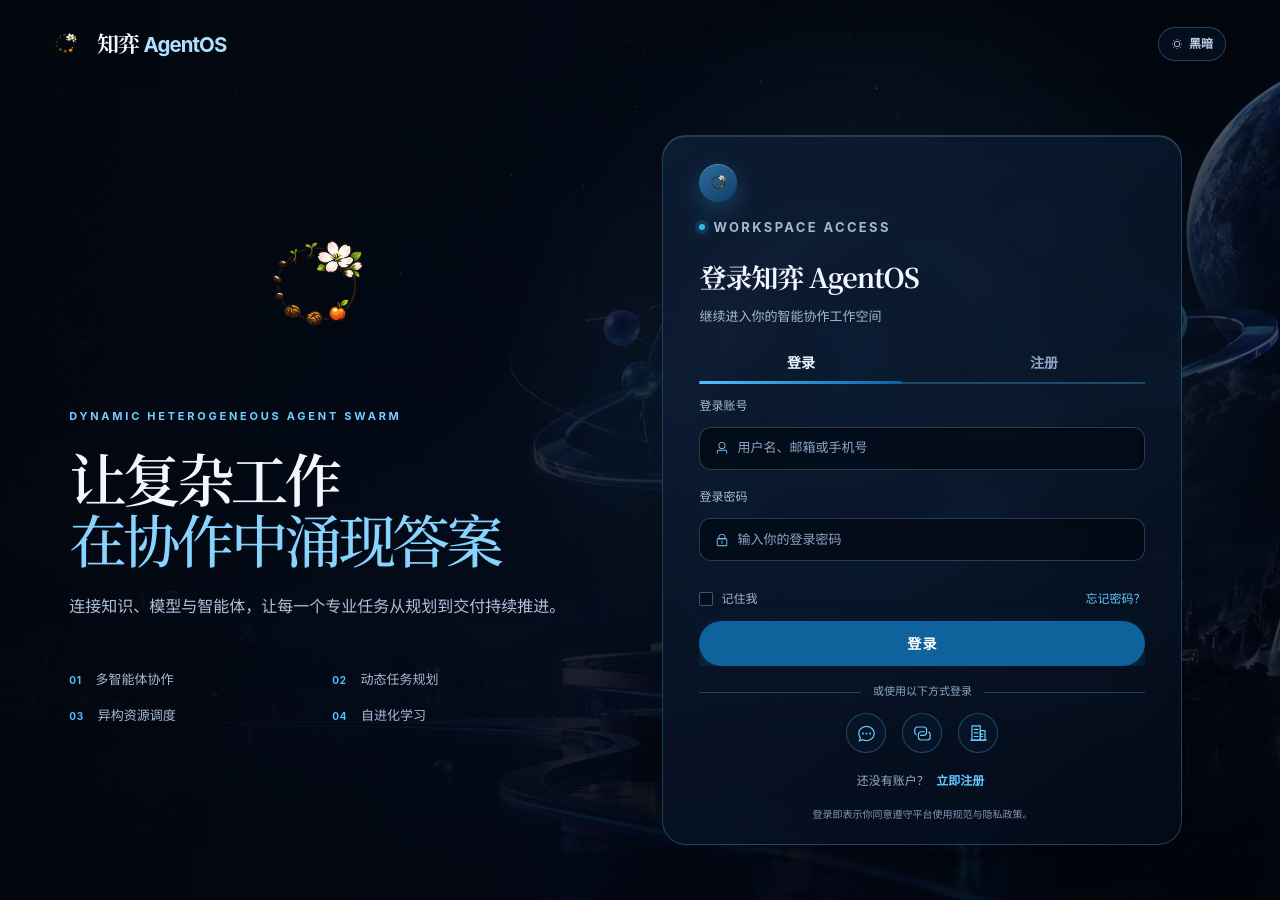
Scenario: LoginView › shows an inline message for rejected login credentials
Type "demo" into the field labelled "登录账号". click: [934, 448]
box: [738,433,1130,463]
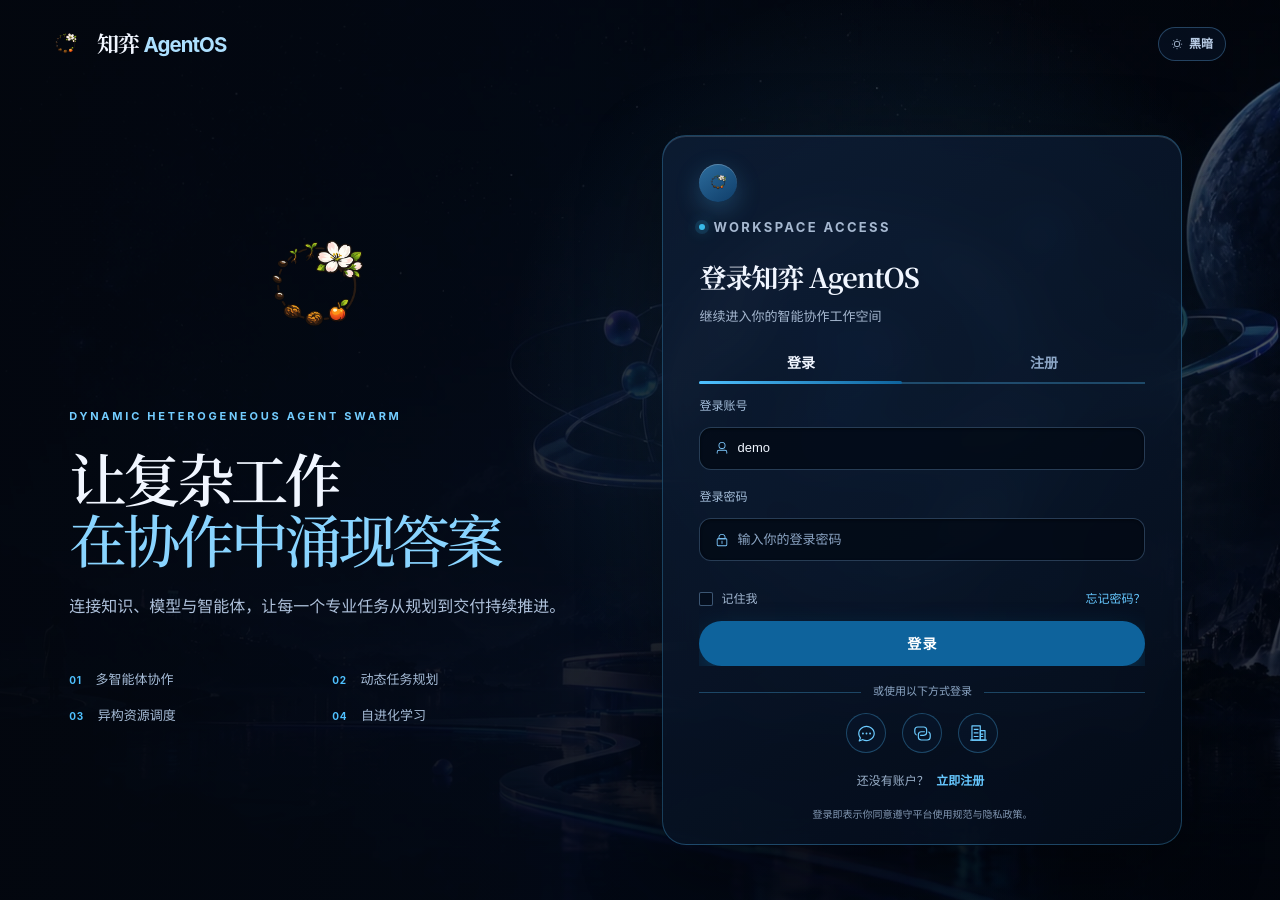
Type "wrong-password" into the password field labelled "登录密码". click: [934, 540]
box: [738,525,1130,555]
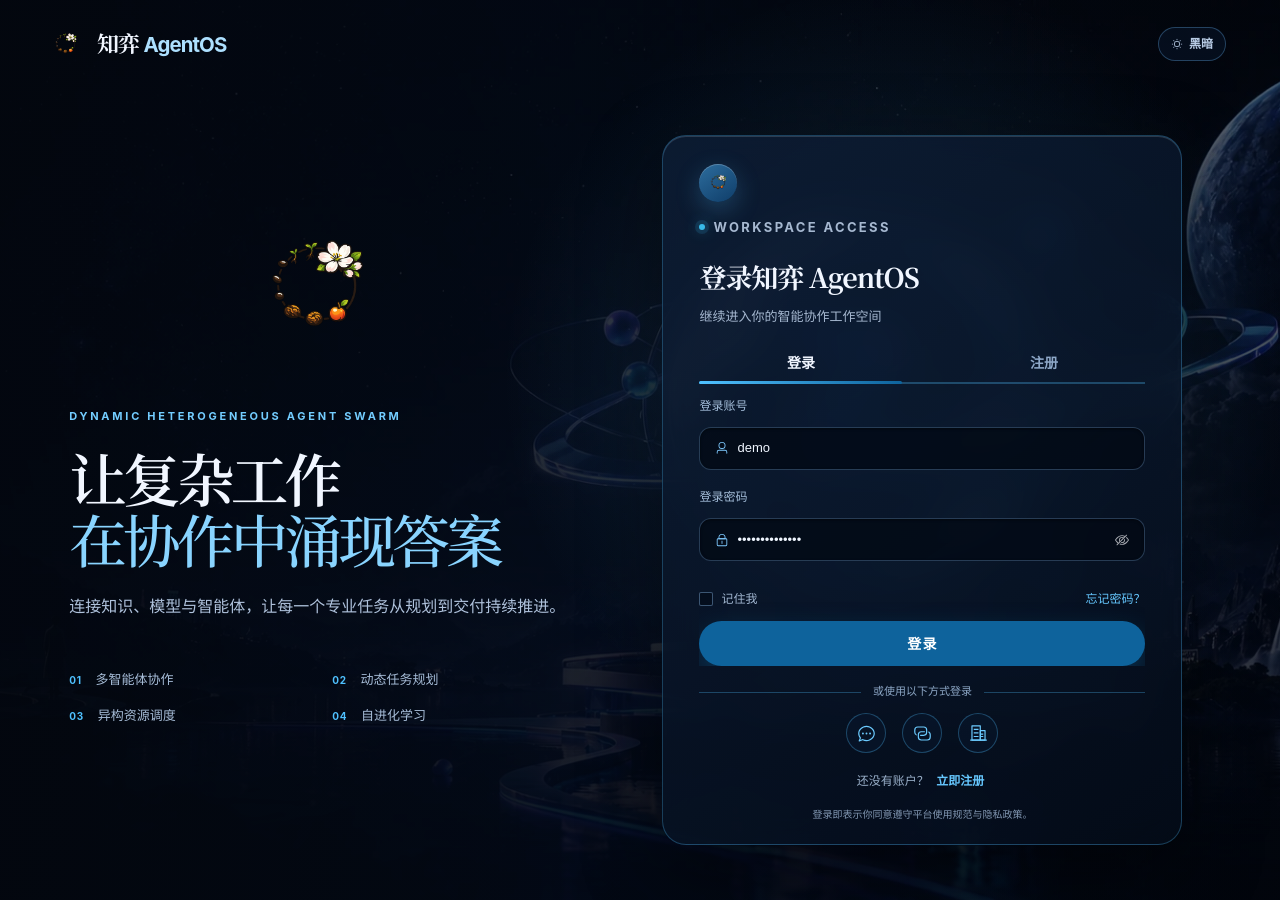
Click the button with test id "auth-submit". click: [922, 644]
box: [700,622,1146,666]
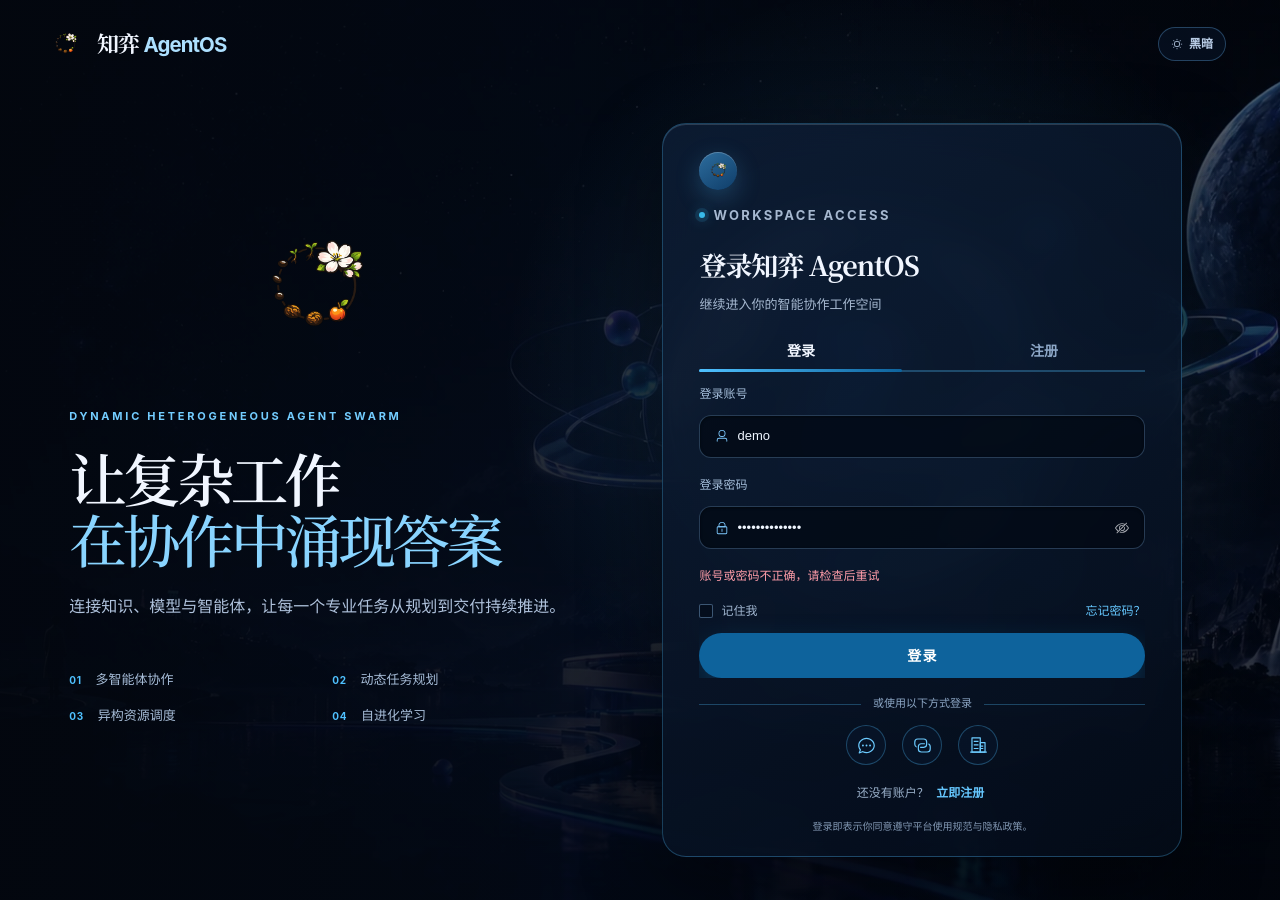
Expected: the message with class "auth-form__error" shows "账号或密码不正确", [700,568,880,583]
